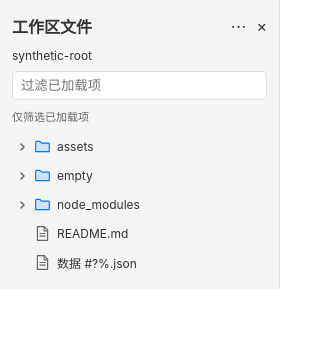
it: FileBrowserPanel › expands only the selected directory, displays empty directories and never scans a generated tree
The image size is (320, 363).
Click the button "assets": (140, 146) top-left (12, 132), bottom-right (267, 161)
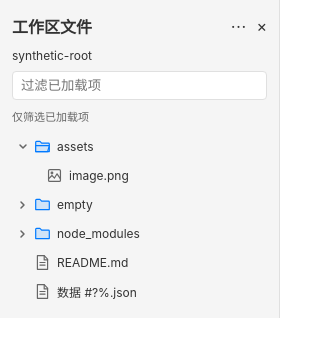
Check: the button "image.png" is shown, box top-left (24, 161), bottom-right (267, 190)
Click the button "empty": (140, 204) top-left (12, 190), bottom-right (267, 219)
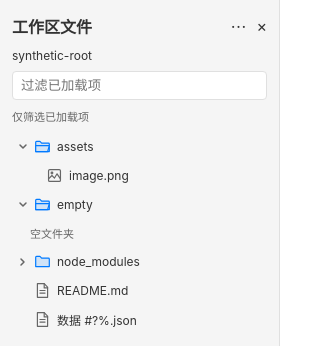
Check: the button "node_modules" is shown, box top-left (12, 247), bottom-right (267, 276)
Check: the text "空文件夹" is shown, box top-left (30, 227), bottom-right (74, 241)
